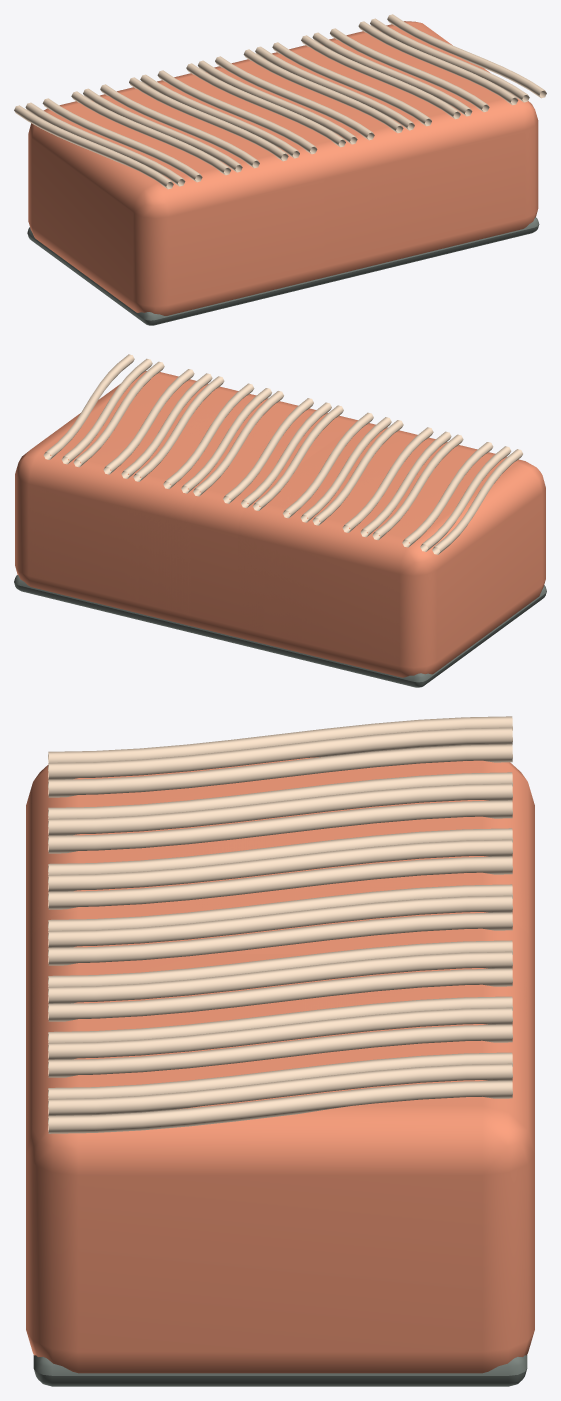
File: salmon.glb
3 views of the same model, one above another, from view 1: azimuth 30°, elevation 25°; view 2: azimuth 150°, elevation 25°; view 3: azimuth 270°, elevation 25° (orthographic). The views are drawn at different scales.
Parts seen in each view (by area): view 1: salmon_whole_geometry, salmon_halfA_geometry, salmon_halfB_geometry; view 2: salmon_whole_geometry, salmon_halfA_geometry, salmon_halfB_geometry; view 3: salmon_halfB_geometry, salmon_whole_geometry, salmon_halfA_geometry.
Boxes of the visible parts, box(x1,y1,x2,y2) form: salmon_whole_geometry: box(25, 18, 538, 323); salmon_halfA_geometry: box(14, 63, 345, 325); salmon_halfB_geometry: box(215, 14, 546, 276); salmon_whole_geometry: box(15, 358, 545, 686); salmon_halfA_geometry: box(228, 405, 546, 687); salmon_halfB_geometry: box(14, 354, 313, 636); salmon_halfB_geometry: box(26, 912, 534, 1386); salmon_whole_geometry: box(26, 727, 534, 1379); salmon_halfA_geometry: box(26, 716, 534, 940).
Bounding box in the file's own units: 0.6437 × 0.2082 × 0.34.
